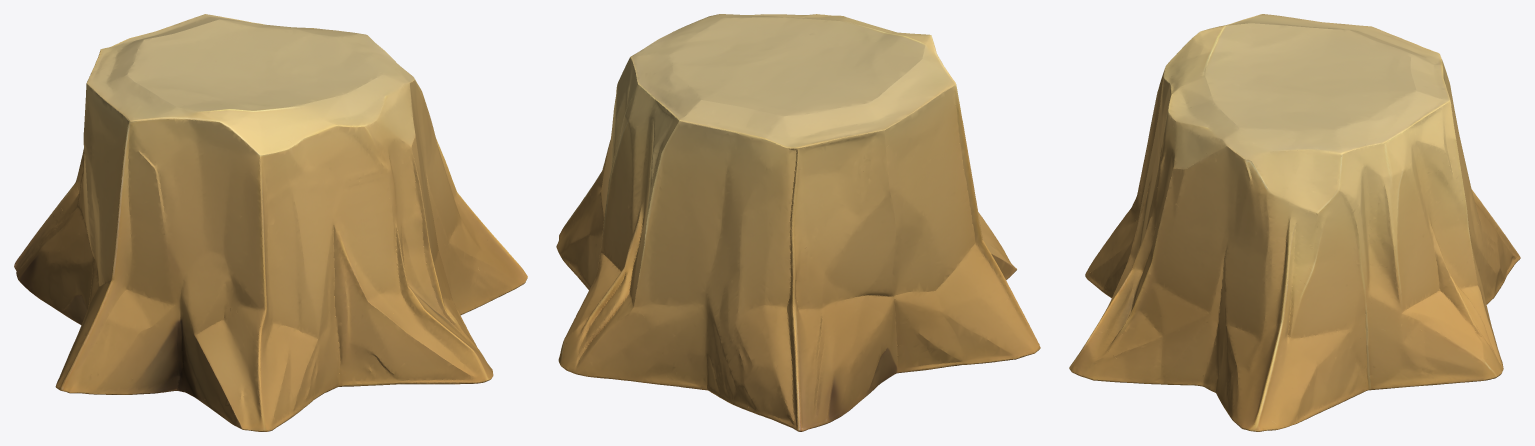
The model's file is base_basic_pbr.fbx.
3 renders of one model, left to right at view 1: azimuth 30°, elevation 25°; view 2: azimuth 150°, elevation 25°; view 3: azimuth 270°, elevation 25°, orthographic. The views are drawn at different scales.
Visible parts, largest first — view 1: geometry_0; view 2: geometry_0; view 3: geometry_0.
Part boxes in pixels (box(x1,y1,x2,y2)): geometry_0: box(14, 14, 527, 431); geometry_0: box(556, 14, 1040, 431); geometry_0: box(1069, 14, 1520, 431).
Bounding box in the file's own units: 190 × 105 × 166.
Materials: 1 (1 with a texture image).
